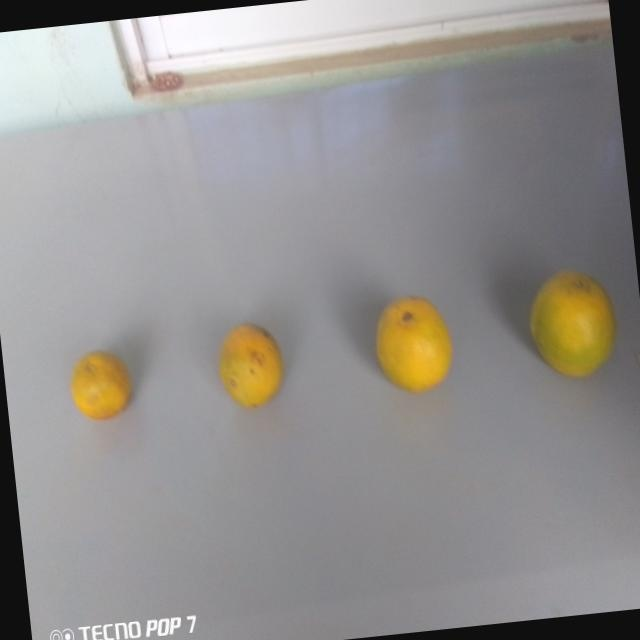agrume: (518, 260, 627, 385), (365, 287, 463, 404), (209, 313, 293, 422), (56, 340, 148, 432)
